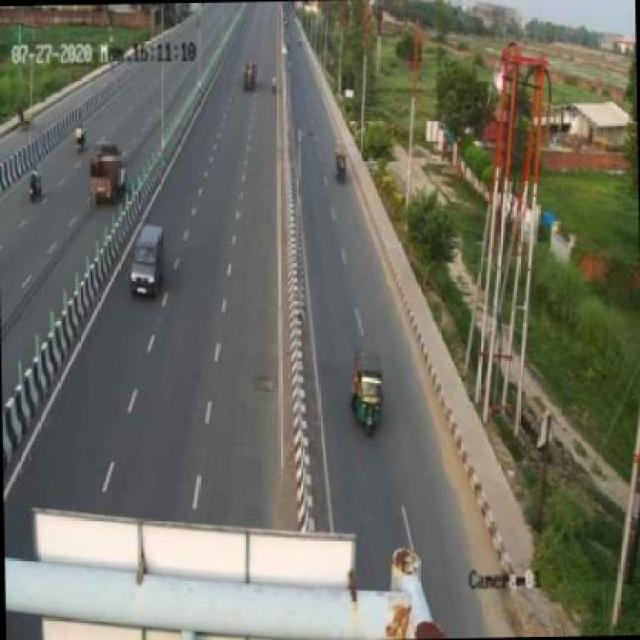car: (123, 218, 168, 302)
